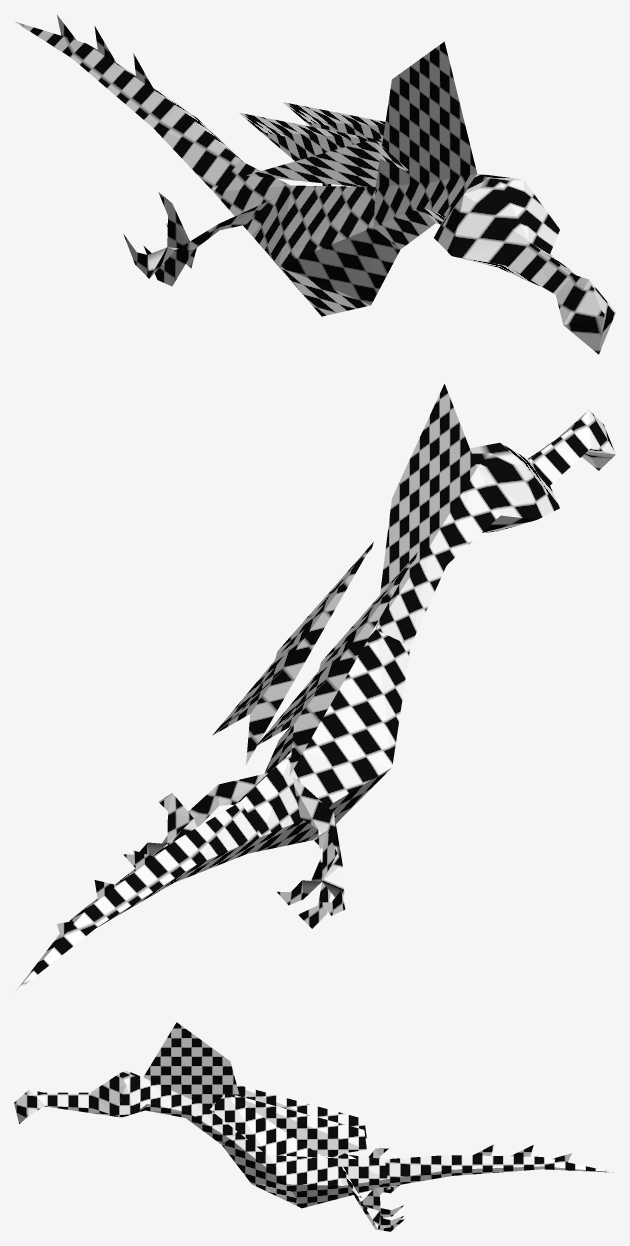
File: unmobi.dae
3 views of the same model, one above another, from view 1: azimuth 30°, elevation 25°; view 2: azimuth 150°, elevation 25°; view 3: azimuth 270°, elevation 25° (orthographic). The views are drawn at different scales.
Parts seen in each view (by area): view 1: bd, r_wing, l_wing; view 2: bd, r_wing, l_wing; view 3: bd, l_wing, r_wing.
Part boxes in pixels (x1,y1,x2,y2): bd: (15,15,615,354); r_wing: (239,113,408,186); l_wing: (283,102,385,145); bd: (15,384,615,992); r_wing: (256,552,417,775); l_wing: (212,542,373,764); bd: (14,1022,614,1231); l_wing: (210,1093,366,1159); r_wing: (215,1085,366,1138).
Size of the model in its own units: 0.075 by 0.3903 by 0.1362.
1 material, 1 textured.
